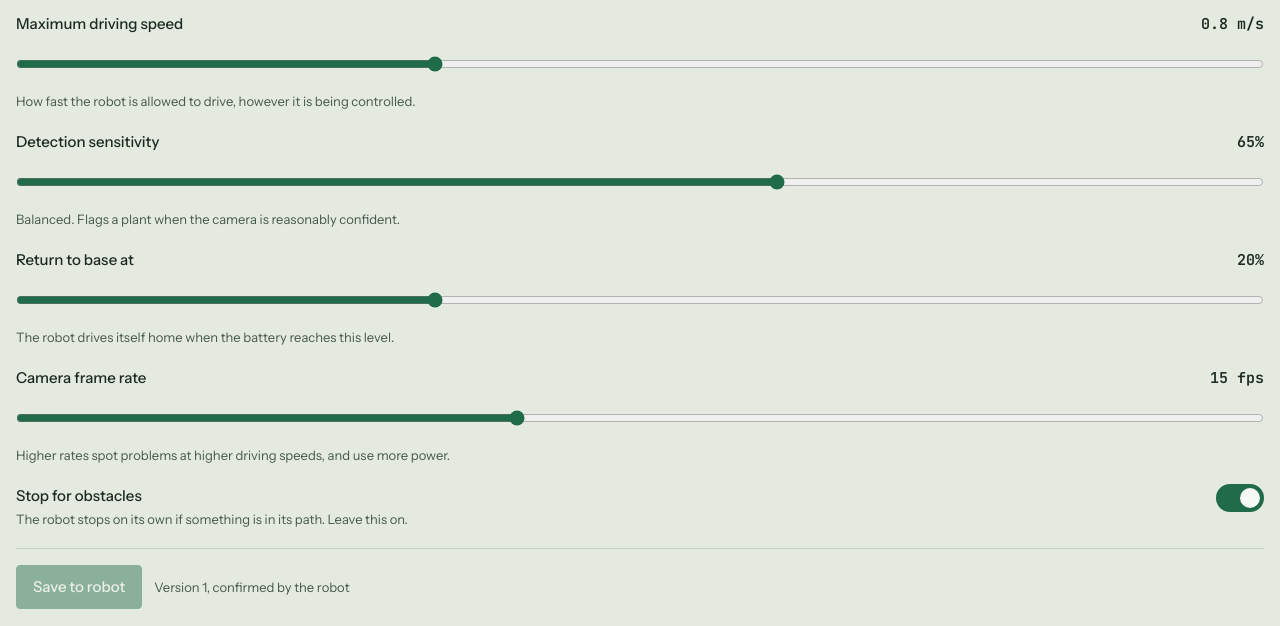
it: ConfigForm › enables saving once a setting is edited, and says it is unsaved
The image size is (1280, 626).
Click the switch named "stop for obstacles": point(1240, 498) [1216,484,1264,512]
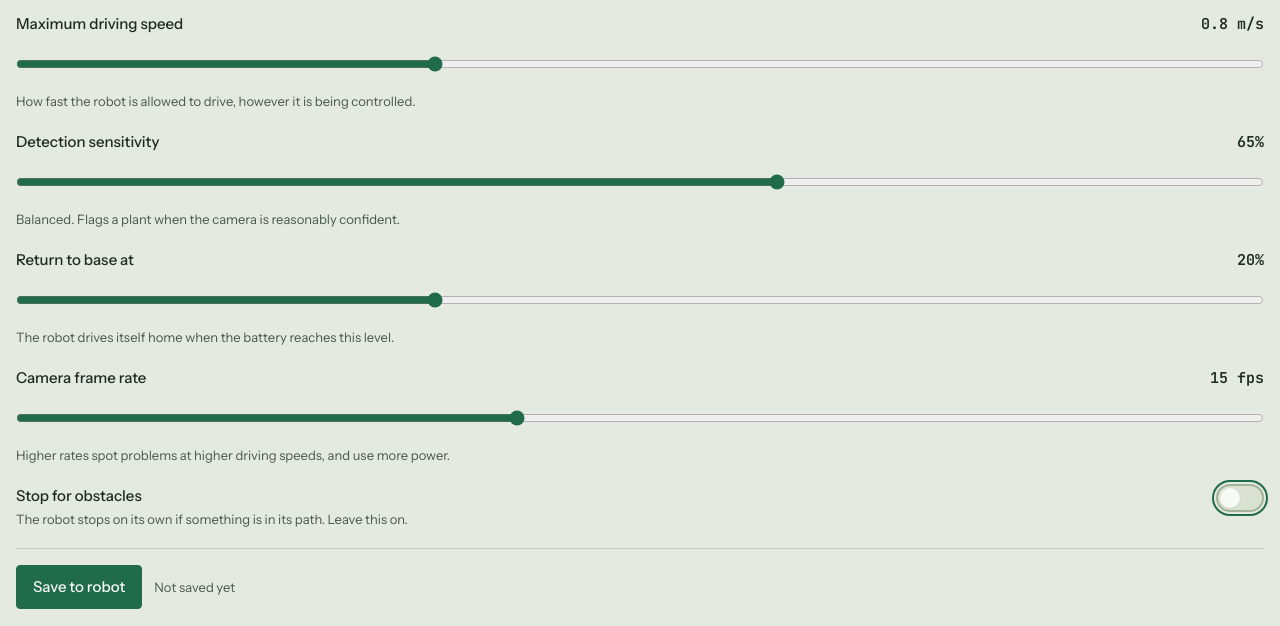
Expected: the button "Save to robot" is enabled, [16,565,142,609]
Expected: the text "Not saved yet" is shown, [154,578,235,596]
